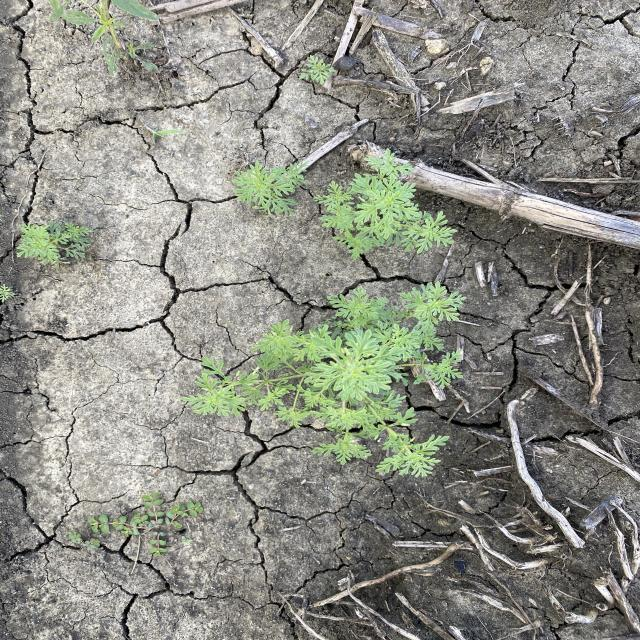Ragweed: (175, 280, 470, 480), (315, 145, 464, 263), (225, 156, 309, 219), (5, 214, 97, 270), (296, 51, 338, 88)
SpottedSpurge: (82, 490, 208, 558)
